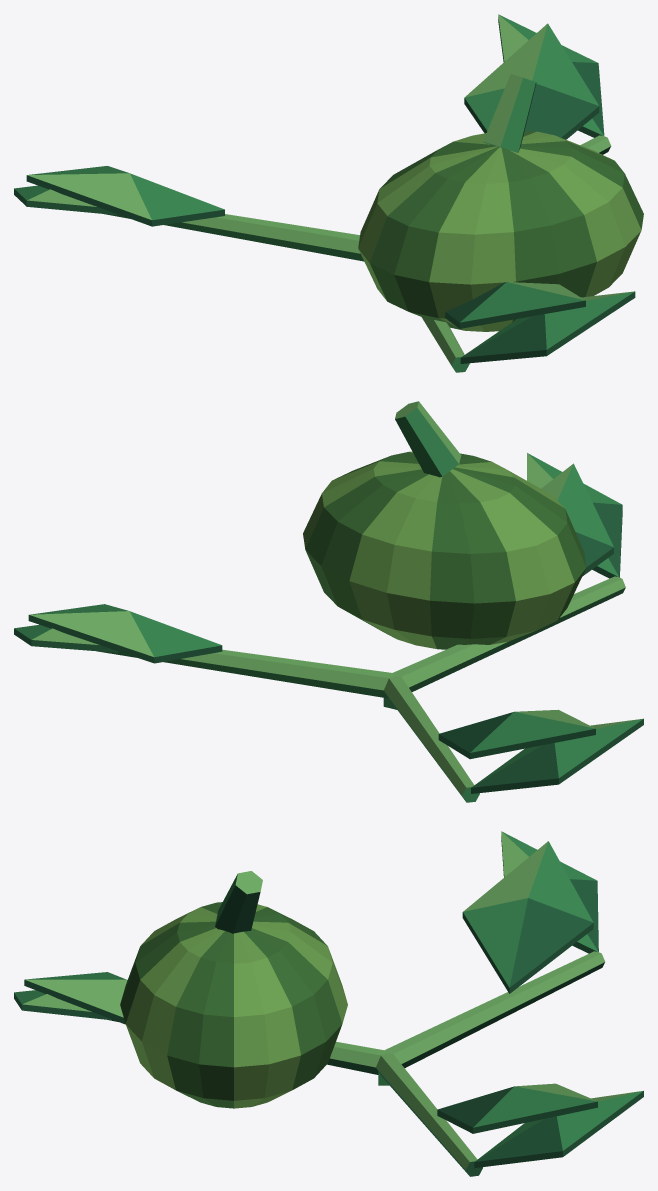
File: watermelon_stage_03.fbx
3 renders of one model, top to bottom at view 1: azimuth 30°, elevation 25°; view 2: azimuth 150°, elevation 25°; view 3: azimuth 270°, elevation 25°, orthographic. The views are drawn at different scales.
Visible parts, largest first — view 1: watermelon_stage_03__Foliage; view 2: watermelon_stage_03__Foliage; view 3: watermelon_stage_03__Foliage.
Boxes of the visible parts, x1,y1,x2,y2 form: watermelon_stage_03__Foliage: (14,14,643,372); watermelon_stage_03__Foliage: (14,401,643,802); watermelon_stage_03__Foliage: (14,831,643,1176).
Size of the model in its own units: 1.79 by 0.678 by 1.66.
1 material, 1 textured.
